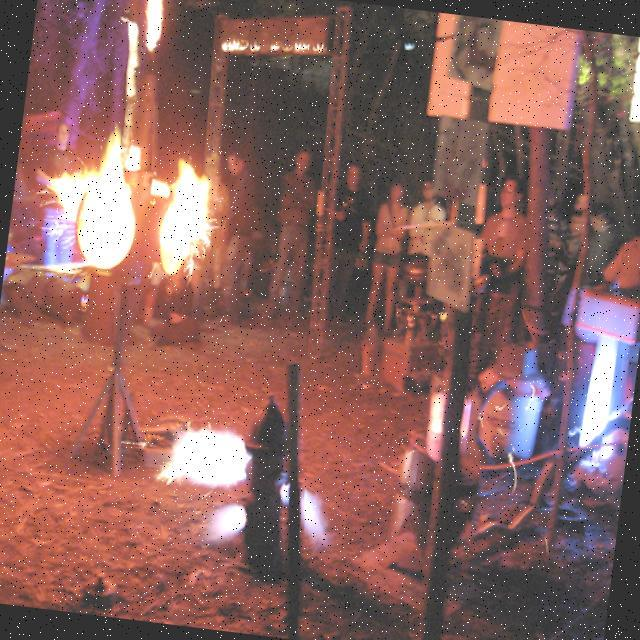fire_hydrant: (232, 398, 308, 578)
